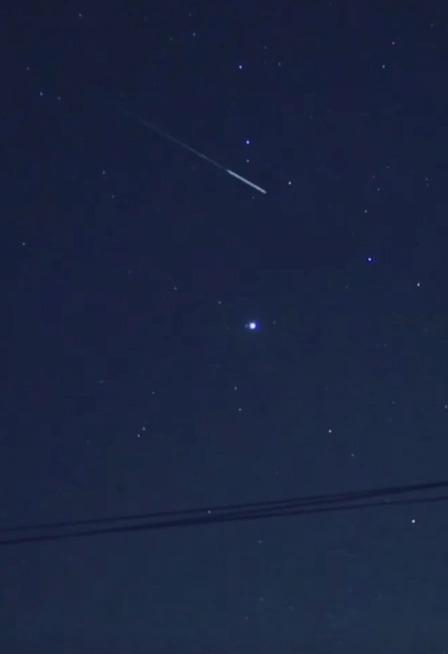meteorite: (83, 102, 280, 215)
